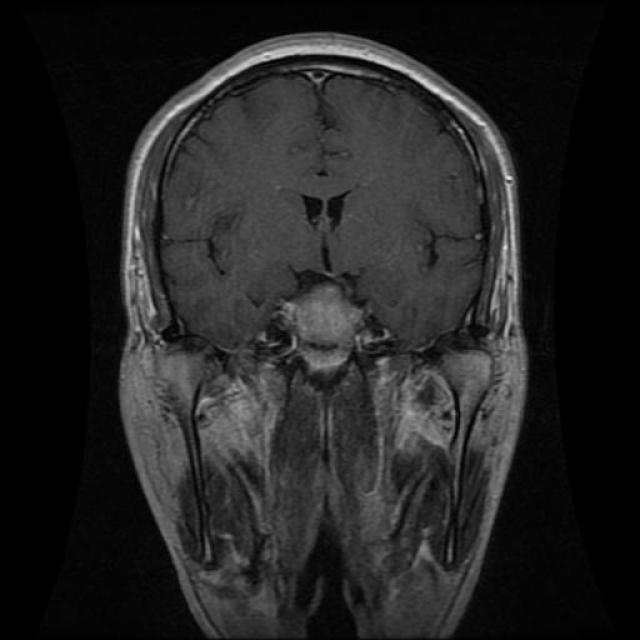pituitary: (271, 281, 375, 379)
